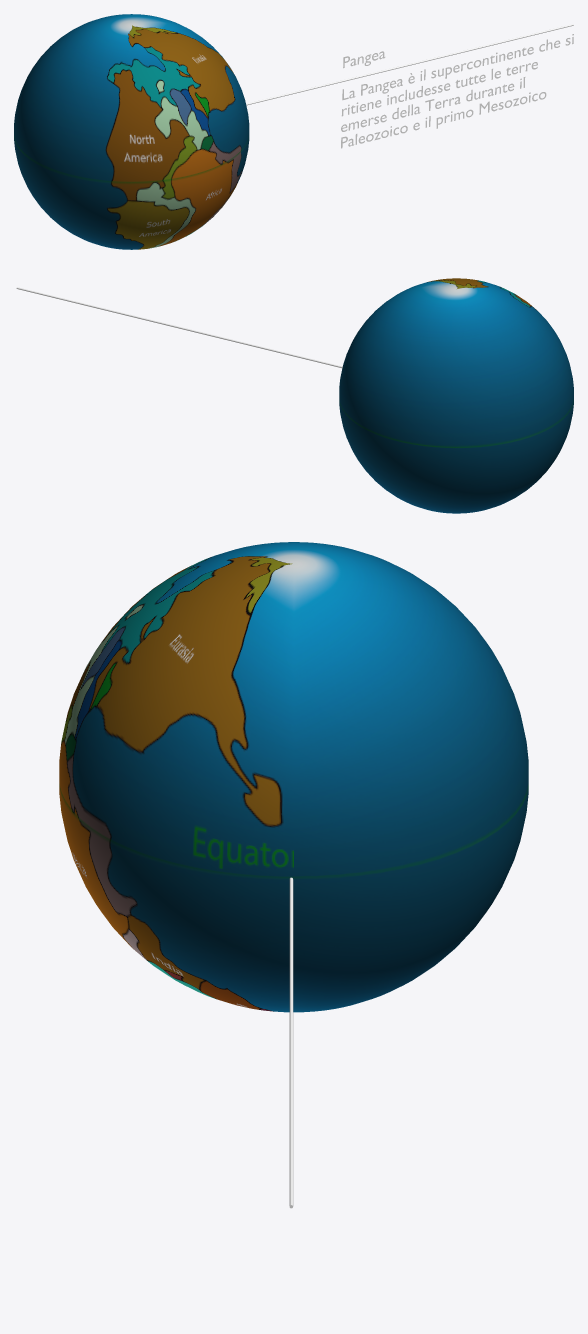
File: PPangea.gltf
3 views of the same model, one above another, from view 1: azimuth 30°, elevation 25°; view 2: azimuth 150°, elevation 25°; view 3: azimuth 270°, elevation 25° (orthographic). The views are drawn at different scales.
Visible parts, largest first — view 1: Sphere, Text, riga; view 2: Sphere, riga; view 3: Sphere, riga.
Part boxes in pixels (x1,y1,x2,y2): Sphere: [14, 14, 249, 249]; Text: [341, 34, 573, 148]; riga: [246, 24, 573, 105]; Sphere: [339, 278, 573, 513]; riga: [16, 287, 342, 368]; Sphere: [59, 542, 528, 1012]; riga: [289, 877, 293, 1208].
Bounding box in the file's own units: 695 × 261 × 260.
Materials: 2 (1 with a texture image).
